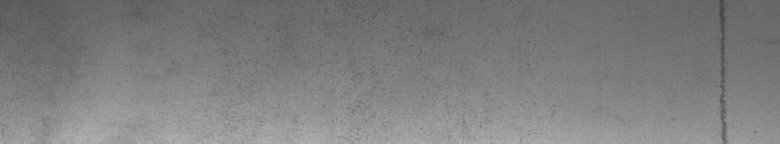hd: (716, 4, 733, 136)
